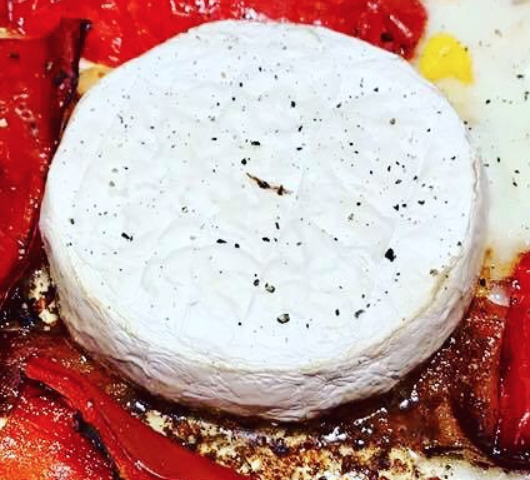camembert: (38, 17, 488, 422)
